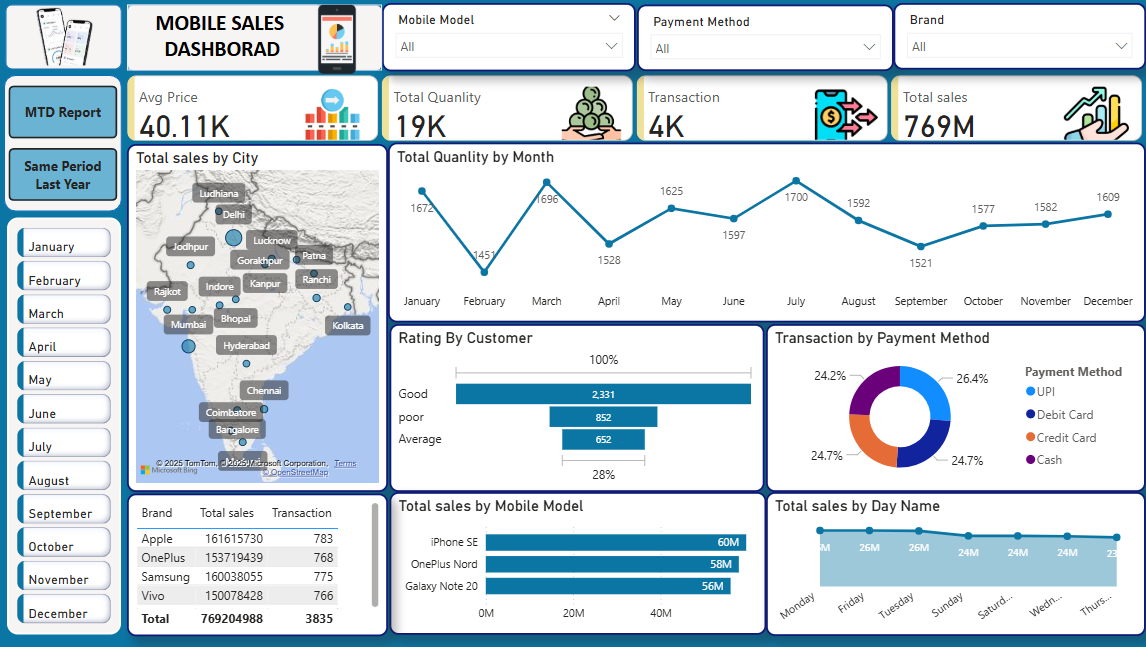

This screenshot's page, from the dashboard's own definition file:
{"tool":"powerbi","page":{"name":"Dashboard","canvas":[1280,720],"ordinal":0},"visuals":[{"type":"advancedSlicerVisual","fields":{"Values":["custom calender.Date.Variation.Date Hierarchy.Month"]},"box":[10,241.7,126.7,463.3],"z":0},{"type":"shape","box":[8.1,5.4,129,72],"z":1000},{"type":"image","box":[12.9,0,121,77.4],"z":2000},{"type":"shape","box":[6.5,83.9,130.6,151.6],"z":3000},{"type":"cardVisual","fields":{"Data":["Mobile Sales Data.Avg Price","Mobile Sales Data.Total Quanlity","Mobile Sales Data.Transaction","Mobile Sales Data.Total sales"]},"box":[138.3,78.3,1141.7,83.3],"z":4000},{"type":"slicer","fields":{"Values":["Mobile Sales Data.Mobile Model"]},"box":[427.4,3.2,282.3,75.8],"z":5000},{"type":"slicer","fields":{"Values":["Mobile Sales Data.Payment Method"]},"box":[709.7,4.8,285.5,74.2],"z":6000},{"type":"slicer","fields":{"Values":["Mobile Sales Data.Brand"]},"box":[995.7,3.8,280.6,74.2],"z":7000},{"type":"shape","box":[143.5,4.8,283.9,74.2],"z":8000},{"type":"textbox","box":[143.5,4.8,211.3,72.6],"z":9000},{"type":"image","box":[324.2,0,103.2,87.1],"z":10000},{"type":"map","fields":{"Category":["Mobile Sales Data.City"],"Size":["Mobile Sales Data.Total sales"]},"box":[143.3,160,290,386.7],"z":11000},{"type":"lineChart","fields":{"Category":["custom calender.Date.Variation.Date Hierarchy.Month"],"Y":["Mobile Sales Data.Total Quanlity"]},"box":[433.3,158.3,841.7,200],"z":12000},{"type":"funnel","title":" Rating By Customer","fields":{"Category":["Mobile Sales Data.Customer Rating"],"Y":["CountNonNull(Mobile Sales Data.Customer Rating)"]},"box":[435,360,416.7,186.7],"z":13000},{"type":"donutChart","fields":{"Y":["Mobile Sales Data.Transaction"],"Category":["Mobile Sales Data.Payment Method"]},"box":[853.3,360,421.7,186.7],"z":14000},{"type":"clusteredBarChart","fields":{"Y":["Mobile Sales Data.Total sales"],"Category":["Mobile Sales Data.Mobile Model"]},"box":[435,546.7,418.3,158.3],"z":15000},{"type":"areaChart","fields":{"Category":["custom calender.Day Name"],"Y":["Mobile Sales Data.Total sales"]},"box":[853.3,546.7,421.7,160],"z":16000},{"type":"tableEx","fields":{"Values":["Mobile Sales Data.Brand","Mobile Sales Data.Total sales","Mobile Sales Data.Transaction"]},"box":[143.3,548.3,290,158.3],"z":17000},{"type":"pageNavigator","box":[11.7,95,121.7,128.3],"z":18000}]}

Visuals, with their boxes in screenshot pixels (x1, y1, x2, y2), scaled from the page's 1280x720 canvas onto the 1146x647 screenshot:
advancedSlicerVisual - custom calender.Date.Variation.Date Hierarchy.Month: pyautogui.locateOnScreen(9, 217, 122, 634)
shape: pyautogui.locateOnScreen(7, 5, 123, 70)
image: pyautogui.locateOnScreen(12, 0, 120, 70)
shape: pyautogui.locateOnScreen(6, 75, 123, 212)
cardVisual - Mobile Sales Data.Avg Price x Mobile Sales Data.Total Quanlity: pyautogui.locateOnScreen(124, 70, 1145, 145)
slicer - Mobile Sales Data.Mobile Model: pyautogui.locateOnScreen(383, 3, 635, 71)
slicer - Mobile Sales Data.Payment Method: pyautogui.locateOnScreen(635, 4, 891, 71)
slicer - Mobile Sales Data.Brand: pyautogui.locateOnScreen(891, 3, 1143, 70)
shape: pyautogui.locateOnScreen(128, 4, 383, 71)
textbox: pyautogui.locateOnScreen(128, 4, 318, 70)
image: pyautogui.locateOnScreen(290, 0, 383, 78)
map - Mobile Sales Data.City x Mobile Sales Data.Total sales: pyautogui.locateOnScreen(128, 144, 388, 491)
lineChart - custom calender.Date.Variation.Date Hierarchy.Month x Mobile Sales Data.Total Quanlity: pyautogui.locateOnScreen(388, 142, 1142, 322)
" Rating By Customer" funnel: pyautogui.locateOnScreen(389, 324, 763, 491)
donutChart - Mobile Sales Data.Transaction x Mobile Sales Data.Payment Method: pyautogui.locateOnScreen(764, 324, 1142, 491)
clusteredBarChart - Mobile Sales Data.Total sales x Mobile Sales Data.Mobile Model: pyautogui.locateOnScreen(389, 491, 764, 634)
areaChart - custom calender.Day Name x Mobile Sales Data.Total sales: pyautogui.locateOnScreen(764, 491, 1142, 635)
tableEx - Mobile Sales Data.Brand x Mobile Sales Data.Total sales: pyautogui.locateOnScreen(128, 493, 388, 635)
pageNavigator: pyautogui.locateOnScreen(10, 85, 119, 201)
